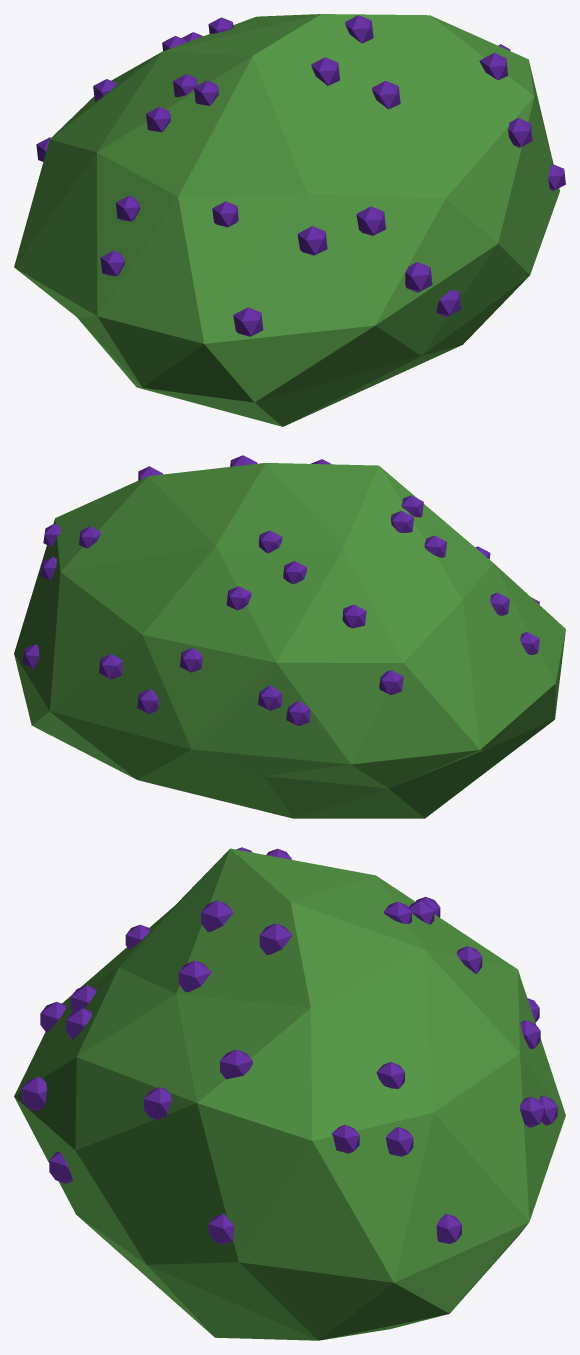
Rendered from bush_berries_blue.fbx.
3 views of the same model, one above another, from view 1: azimuth 30°, elevation 25°; view 2: azimuth 150°, elevation 25°; view 3: azimuth 270°, elevation 25° (orthographic). The views are drawn at different scales.
Visible parts, largest first — view 1: bush_berries_blue_LOD0; view 2: bush_berries_blue_LOD0; view 3: bush_berries_blue_LOD0.
Part boxes in pixels (x1=…): bush_berries_blue_LOD0: x1=14, y1=14, x2=565, y2=426; bush_berries_blue_LOD0: x1=14, y1=455, x2=565, y2=818; bush_berries_blue_LOD0: x1=14, y1=847, x2=565, y2=1340.
Size of what is drawn, in the model's own units: 219 by 142 by 187.
